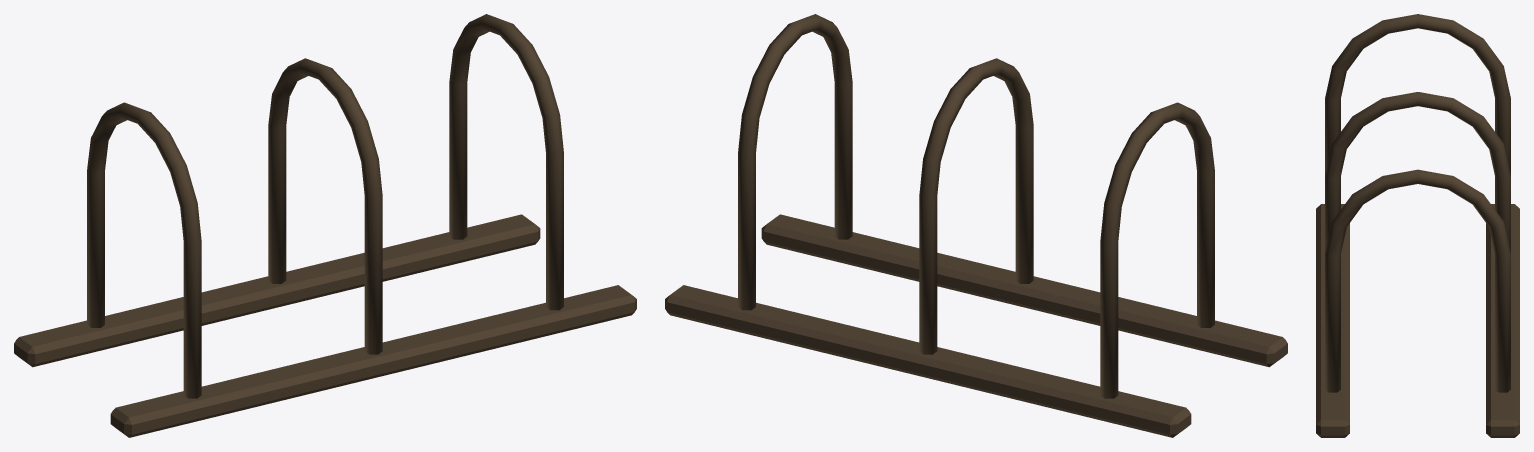
File: bicycle_rack.glb
3 renders of one model, left to right at view 1: azimuth 30°, elevation 25°; view 2: azimuth 150°, elevation 25°; view 3: azimuth 270°, elevation 25°, orthographic. The views are drawn at different scales.
Parts seen in each view (by area): view 1: bicycle_rack; view 2: bicycle_rack; view 3: bicycle_rack.
Boxes of the visible parts, <box> form: bicycle_rack: <box>14,14,636,437</box>; bicycle_rack: <box>665,14,1287,437</box>; bicycle_rack: <box>1316,14,1519,437</box>.
Size of the model in its own units: 1.84 by 0.928 by 0.72.
